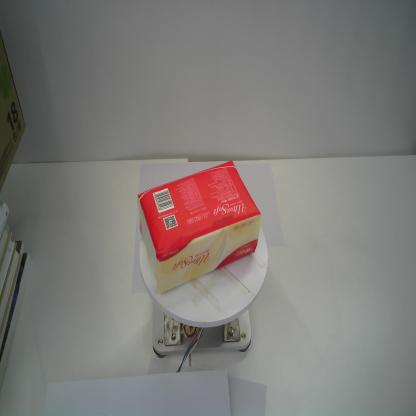Tissue: (136, 160, 262, 293)
